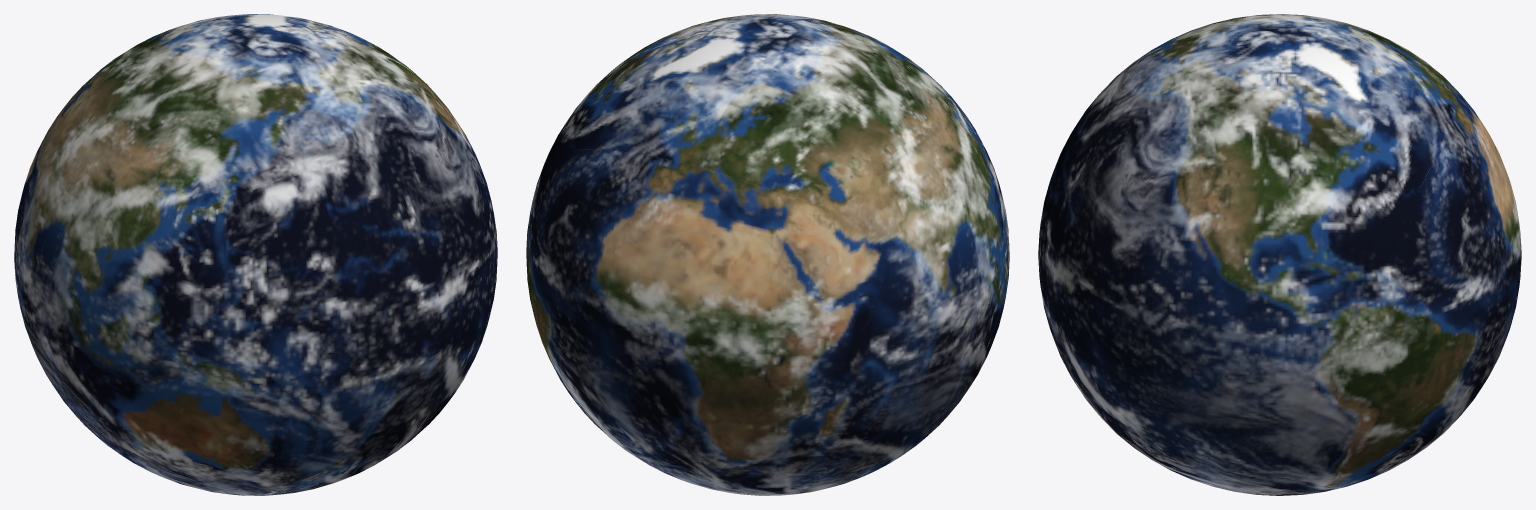
File: earth-clouds.glb
The picture shows the model from 3 angles, left to right: view 1: azimuth 30°, elevation 25°; view 2: azimuth 150°, elevation 25°; view 3: azimuth 270°, elevation 25°; orthographic projection.
Visible parts, largest first — view 1: Cube.001; view 2: Cube.001; view 3: Cube.001.
Boxes of the visible parts, left/top/right/bottom form: Cube.001: left=14, top=14, right=497, bottom=495; Cube.001: left=526, top=14, right=1009, bottom=495; Cube.001: left=1038, top=14, right=1521, bottom=495.
Size of the model in its own units: 1000 by 997 by 1000.
Materials: 1 (1 with a texture image).
